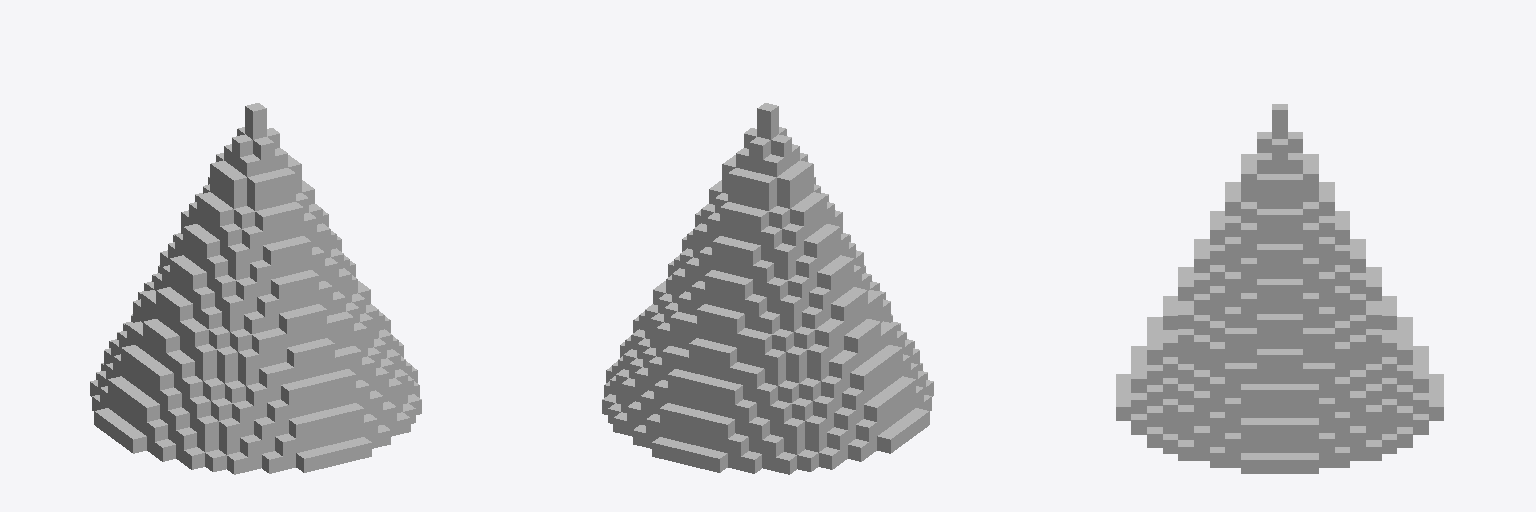
Rendered from spike.obj.
The picture shows the model from 3 angles: view 1: azimuth 30°, elevation 25°; view 2: azimuth 150°, elevation 25°; view 3: azimuth 270°, elevation 25°; orthographic projection.
Parts seen in each view (by area): view 1: object 1; view 2: object 1; view 3: object 1.
Boxes of the visible parts, box(x1,y1,x2,y2) form: object 1: box(90, 103, 421, 474); object 1: box(602, 103, 933, 474); object 1: box(1116, 104, 1443, 473).
Size of the model in its own units: 2.1 by 2.1 by 2.1.